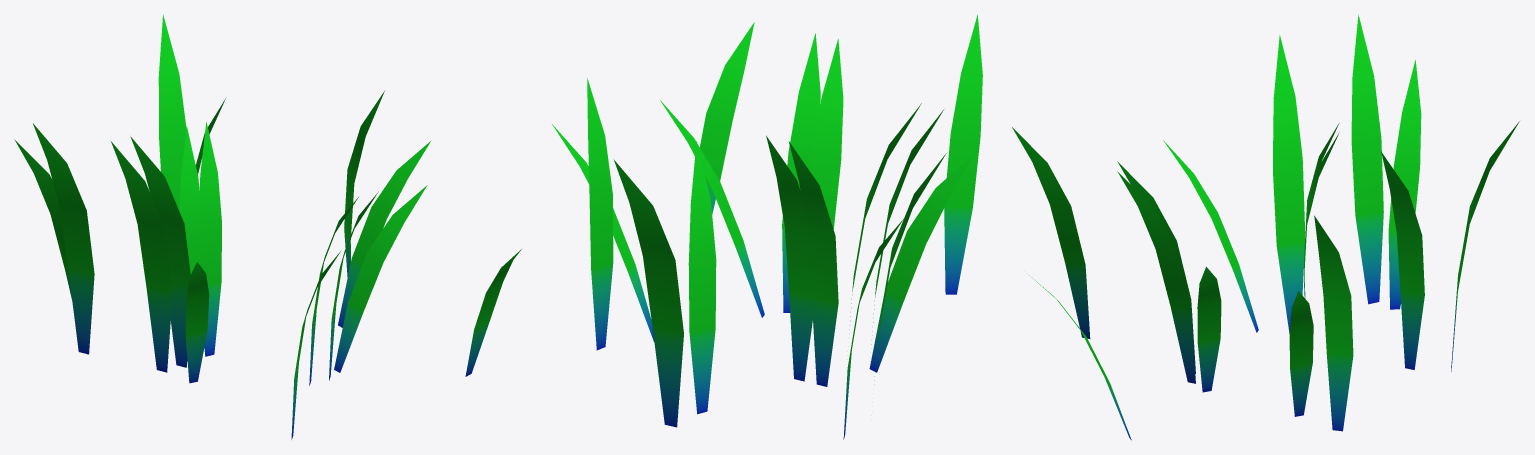
Rendered from m_Grass2_VP.fbx.
The picture shows the model from 3 angles, left to right: view 1: azimuth 30°, elevation 25°; view 2: azimuth 150°, elevation 25°; view 3: azimuth 270°, elevation 25°; orthographic projection. The views are drawn at different scales.
Parts seen in each view (by area): view 1: Grass2; view 2: Grass2; view 3: Grass2.
Part boxes in pixels (x1,y1,x2,y2): Grass2: [14, 14, 521, 439]; Grass2: [552, 15, 982, 439]; Grass2: [1012, 14, 1519, 440].
Size of the model in its own units: 137 by 89.02 by 157.
